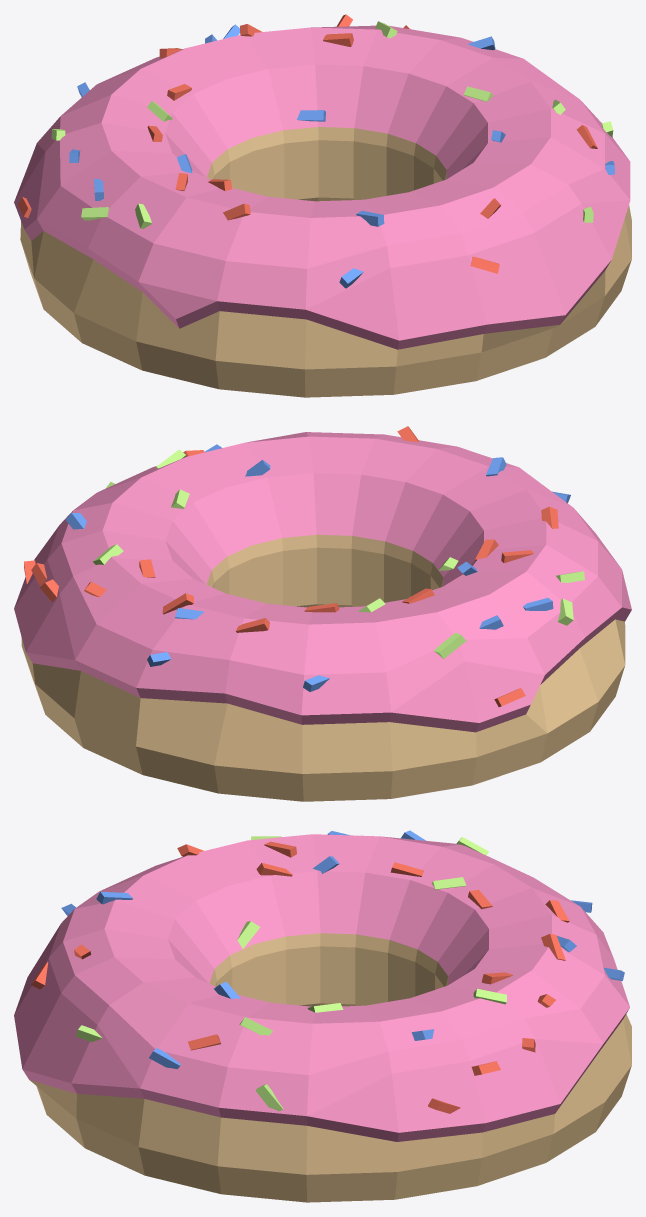
The model's file is donut.glb.
The picture shows the model from 3 angles, top to bottom: view 1: azimuth 30°, elevation 25°; view 2: azimuth 150°, elevation 25°; view 3: azimuth 270°, elevation 25°; orthographic projection.
Parts seen in each view (by area): view 1: Donut1; view 2: Donut1; view 3: Donut1.
Boxes of the visible parts, x1=… form: Donut1: x1=14, y1=14, x2=631, y2=397; Donut1: x1=14, y1=426, x2=631, y2=801; Donut1: x1=14, y1=830, x2=631, y2=1202.
Bounding box in the file's own units: 0.3646 × 0.1237 × 0.3691.
